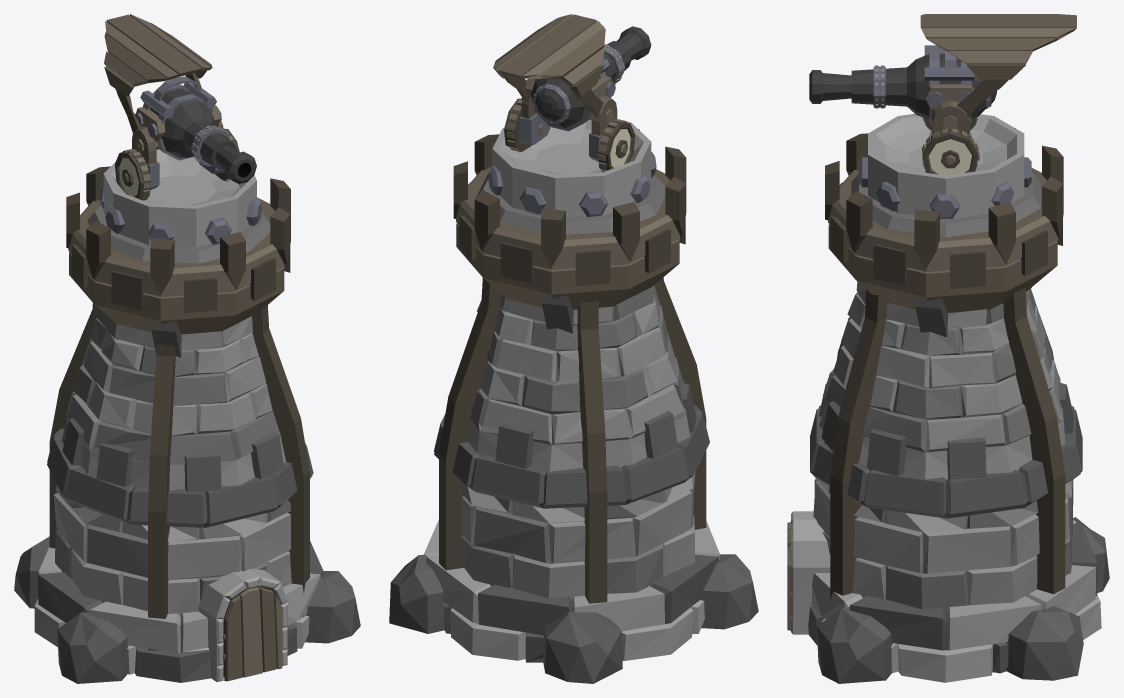
File: _Cannon_tower_LVL_4.fbx
3 views of the same model, side by side, from view 1: azimuth 30°, elevation 25°; view 2: azimuth 150°, elevation 25°; view 3: azimuth 270°, elevation 25° (orthographic). The views are drawn at different scales.
Parts seen in each view (by area): view 1: Cannon_tower_LVL_4; view 2: Cannon_tower_LVL_4; view 3: Cannon_tower_LVL_4.
Boxes of the visible parts, x1,y1,x2,y2 form: Cannon_tower_LVL_4: [14, 14, 360, 683]; Cannon_tower_LVL_4: [389, 14, 758, 683]; Cannon_tower_LVL_4: [787, 14, 1109, 683].
Bounding box in the file's own units: 707 × 1367 × 672.
